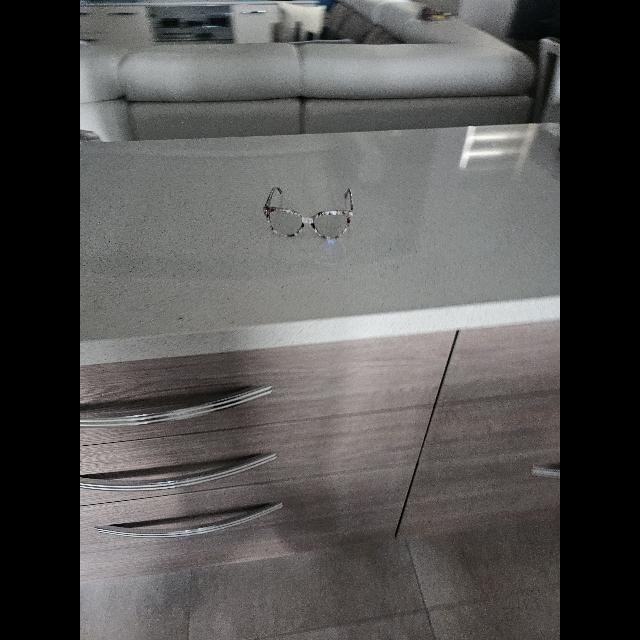glasses: (263, 187, 353, 239)
